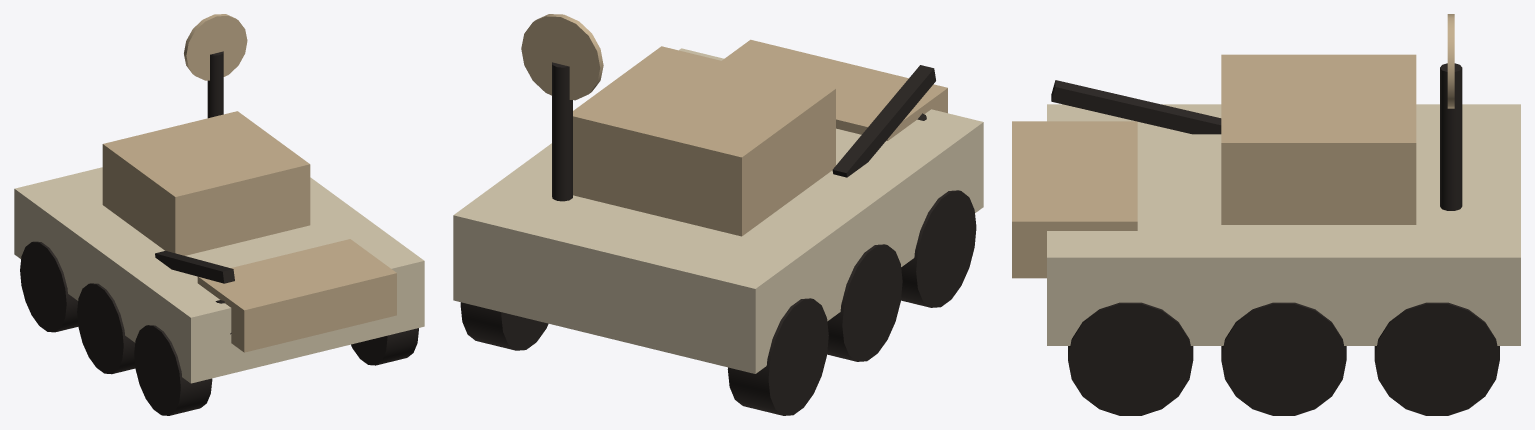
The model's file is rover.glb.
3 renders of one model, left to right at view 1: azimuth 30°, elevation 25°; view 2: azimuth 150°, elevation 25°; view 3: azimuth 270°, elevation 25°, orthographic. The views are drawn at different scales.
Size of the model in its own units: 2.65 by 2.83 by 3.65.
